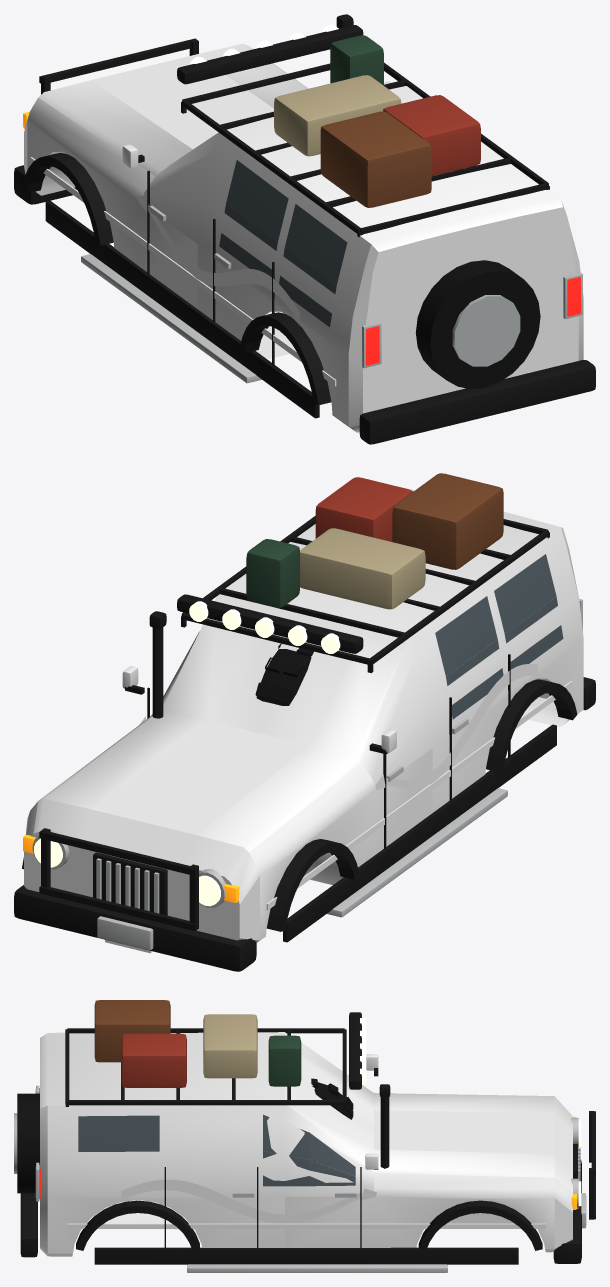
Rendered from dragon-cruiser.glb.
3 renders of one model, top to bottom at view 1: azimuth 30°, elevation 25°; view 2: azimuth 150°, elevation 25°; view 3: azimuth 270°, elevation 25°, orthographic. The views are drawn at different scales.
Visible parts, largest first — view 1: body; view 2: body, wheel; view 3: body, wheel.
Part boxes in pixels (<box>): body: <box>14,14,595,444</box>; body: <box>14,473,595,971</box>; wheel: <box>255,643,313,705</box>; body: <box>14,1000,595,1272</box>; wheel: <box>311,1078,353,1119</box>.
Size of the model in its own units: 2.23 by 2.01 by 5.35.
